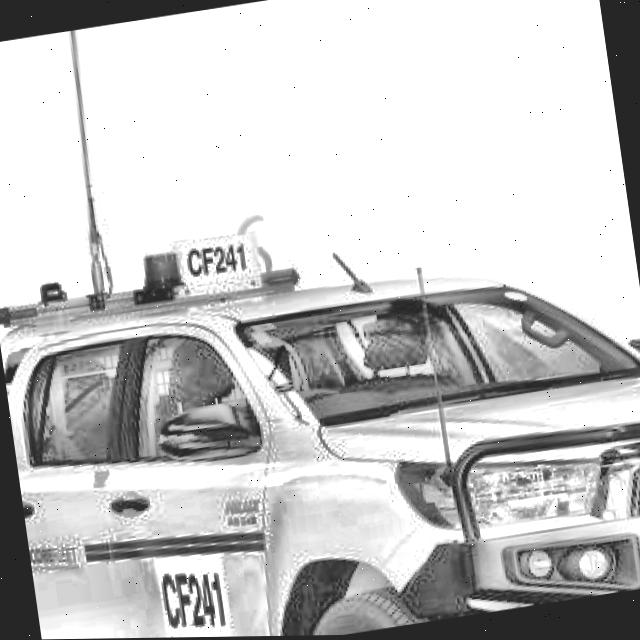light_vehicle: (0, 168, 640, 640)
